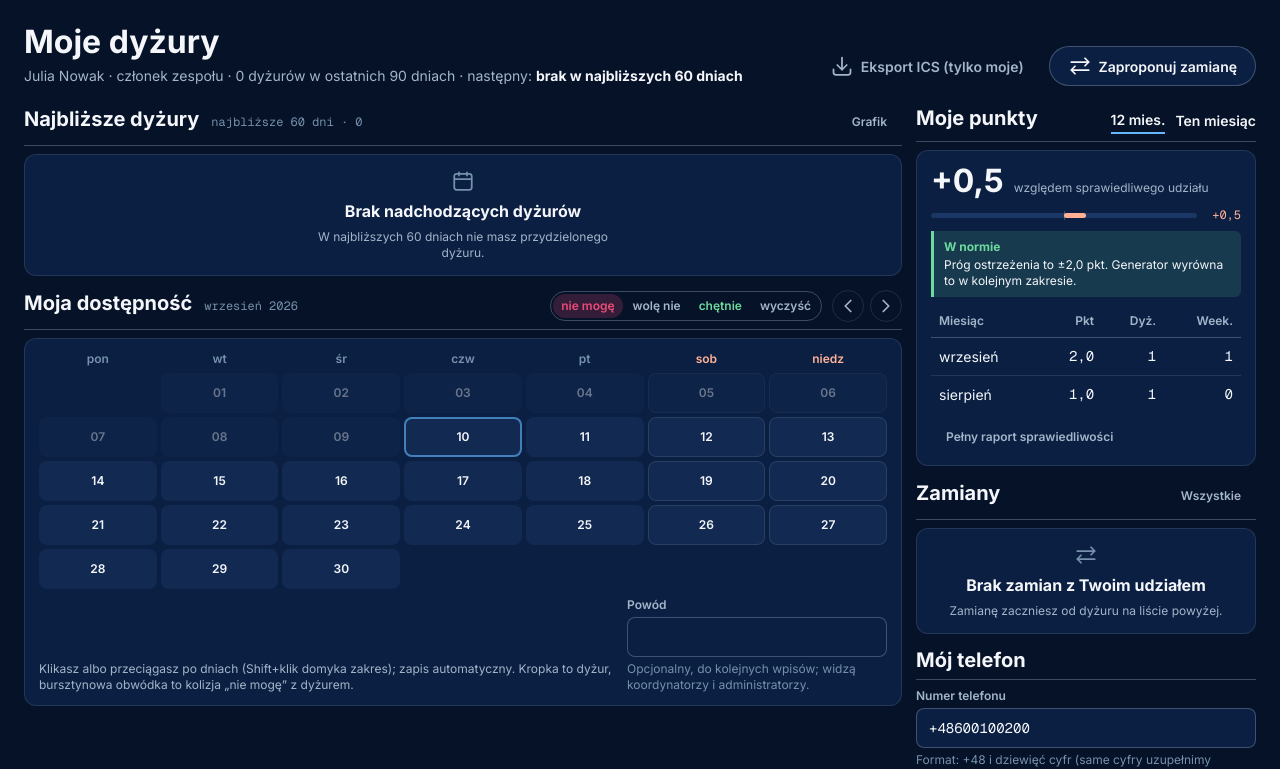
Test: MineScreen points and swaps › shows the deviation as one number with the verdict and the months under it
The width and height of the screenshot is (1280, 769).
Check: the text "+0,5" next to "względem sprawiedliwego udziału" is shown, box [931,161,1004,200]
Check: the text "W normie" is shown, box [944,239,1000,254]
Click the button "Ten miesiąc" at coordinates (1216, 122), box [1175,110,1256,134]
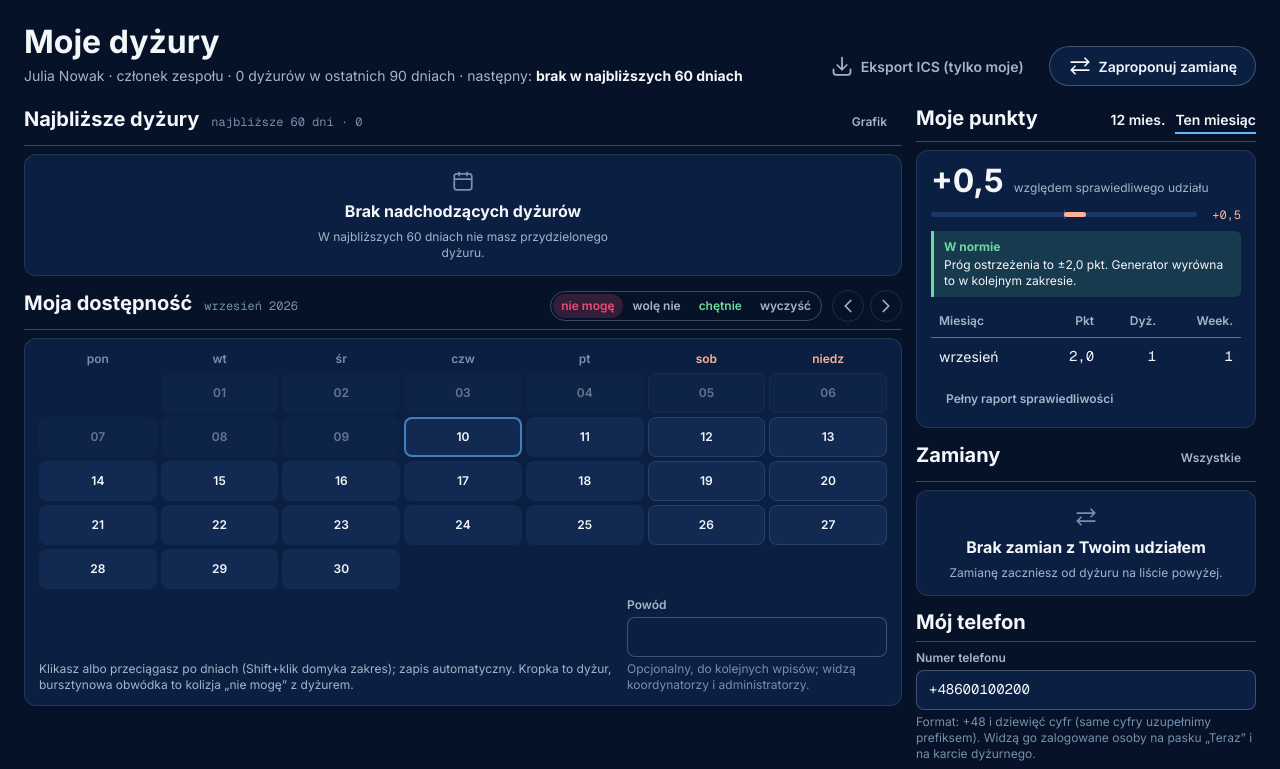
Check: the text "sierpień" is gone
